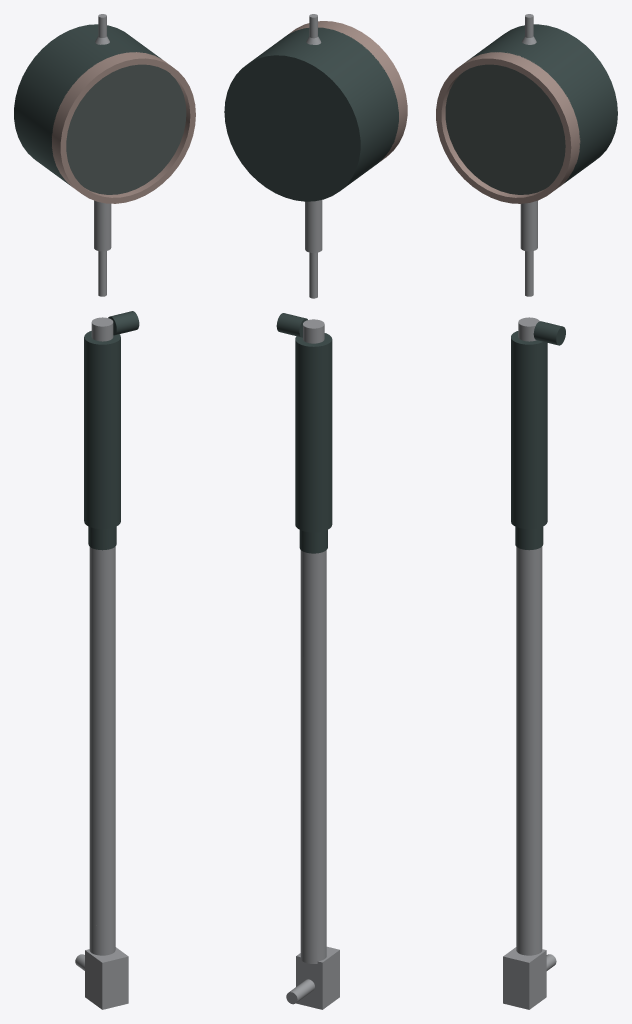
The picture shows the model from 3 angles, left to right: view 1: azimuth 30°, elevation 25°; view 2: azimuth 150°, elevation 25°; view 3: azimuth 330°, elevation 25°; orthographic projection.
Parts seen in each view (by area): view 1: recessed_face, rod, grip, housing, rim, block, stem, lug, cap; view 2: housing, rod, grip, block, rim, stem, lug, cap; view 3: recessed_face, rod, grip, housing, rim, block, stem, lug.
Boxes of the visible parts, x1=… form: recessed_face: x1=66, y1=64, x2=186, y2=194; rod: x1=89, y1=546, x2=115, y2=955; grip: x1=84, y1=331, x2=120, y2=550; housing: x1=14, y1=24, x2=161, y2=186; rim: x1=52, y1=52, x2=195, y2=203; block: x1=75, y1=921, x2=128, y2=1009; stem: x1=94, y1=200, x2=111, y2=296; lug: x1=108, y1=311, x2=139, y2=335; cap: x1=91, y1=317, x2=113, y2=341; housing: x1=224, y1=27, x2=398, y2=201; rod: x1=300, y1=550, x2=326, y2=963; grip: x1=295, y1=333, x2=332, y2=553; block: x1=286, y1=927, x2=339, y2=1009; rim: x1=288, y1=21, x2=407, y2=162; stem: x1=305, y1=200, x2=322, y2=298; lug: x1=276, y1=313, x2=307, y2=337; cap: x1=303, y1=319, x2=324, y2=343; recessed_face: x1=445, y1=64, x2=565, y2=194; rod: x1=516, y1=546, x2=542, y2=955; grip: x1=511, y1=331, x2=547, y2=550; housing: x1=467, y1=24, x2=617, y2=186; rim: x1=436, y1=52, x2=580, y2=203; block: x1=503, y1=921, x2=556, y2=1009; stem: x1=520, y1=200, x2=537, y2=296; lug: x1=533, y1=321, x2=565, y2=345.
Size of the model in its own units: 0.0361 by 0.25 by 0.0219.
